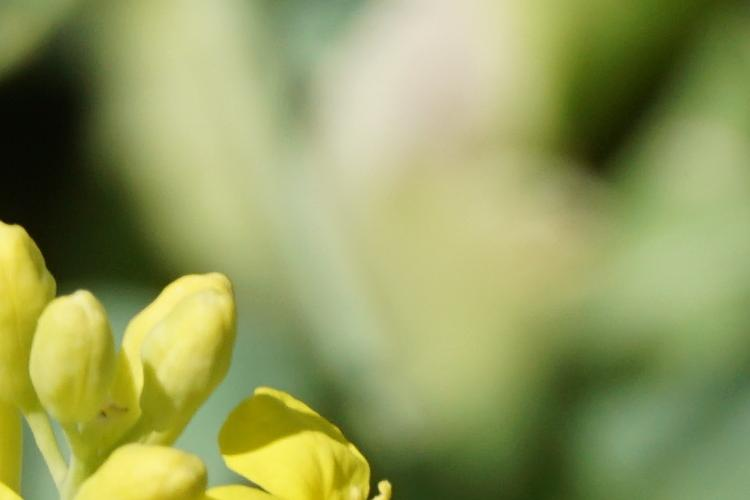bud: (115, 261, 244, 437), (29, 287, 121, 421), (62, 434, 212, 500), (3, 224, 49, 414)
yellow: (218, 386, 380, 500)
